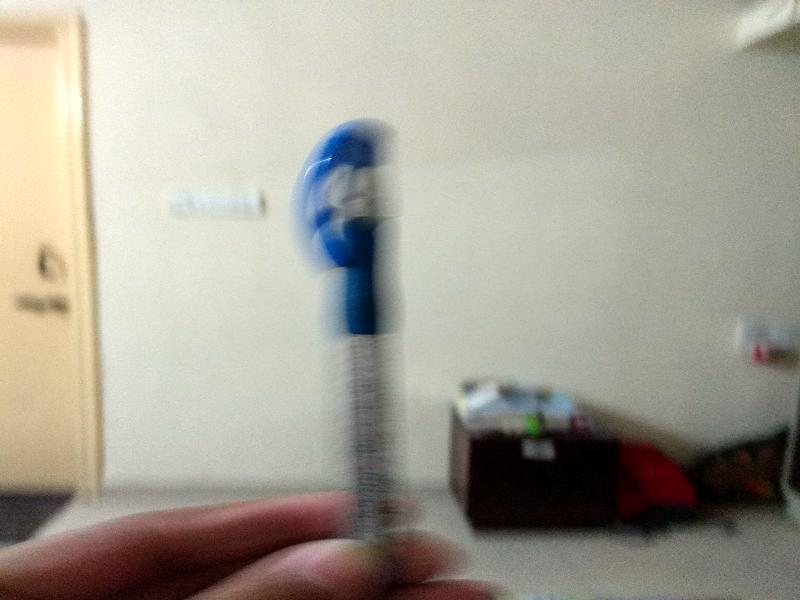pen: (291, 113, 433, 600)
